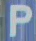Parking: (7, 2, 35, 37)
